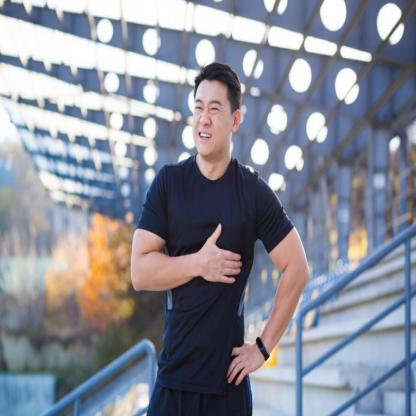pain: (193, 94, 224, 116)
